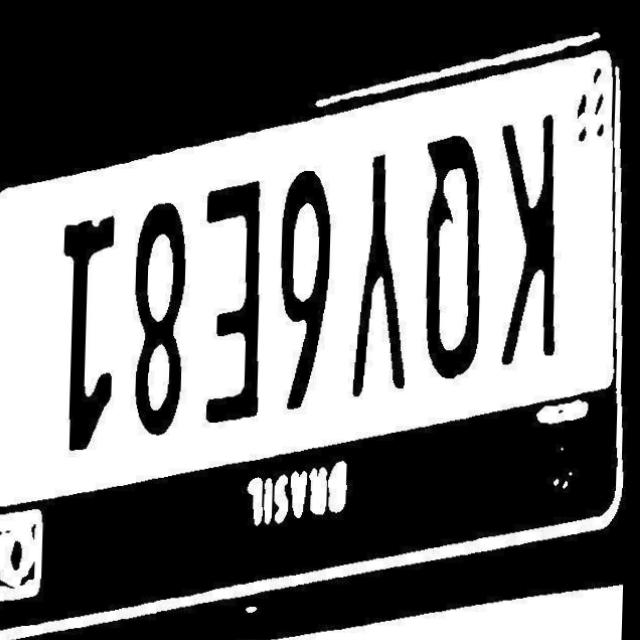1: (54, 209, 118, 456)
6: (259, 130, 336, 436)
8: (129, 199, 192, 442)
e: (183, 131, 261, 443)
k: (487, 93, 574, 410)
q: (408, 107, 489, 419)
y: (322, 114, 412, 424)
